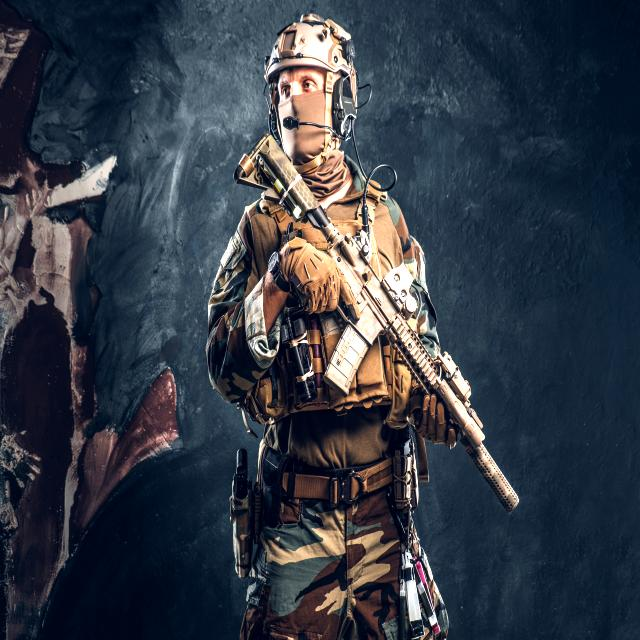rifle: (226, 130, 530, 527)
